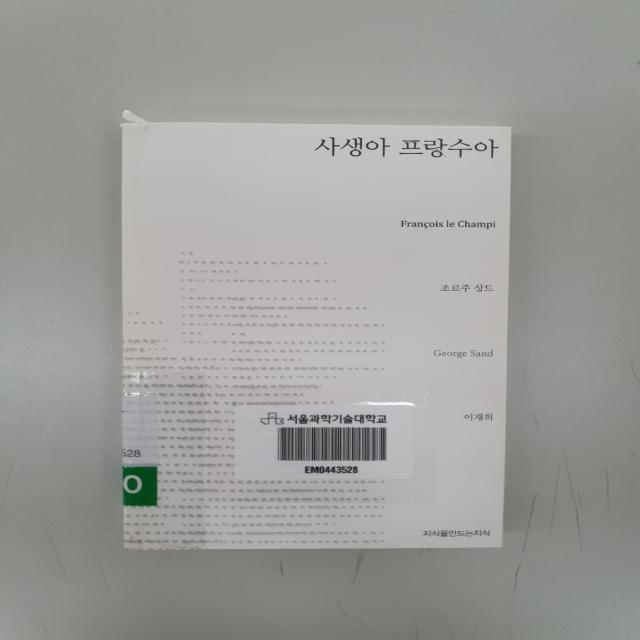Ripped: (116, 105, 164, 136)
